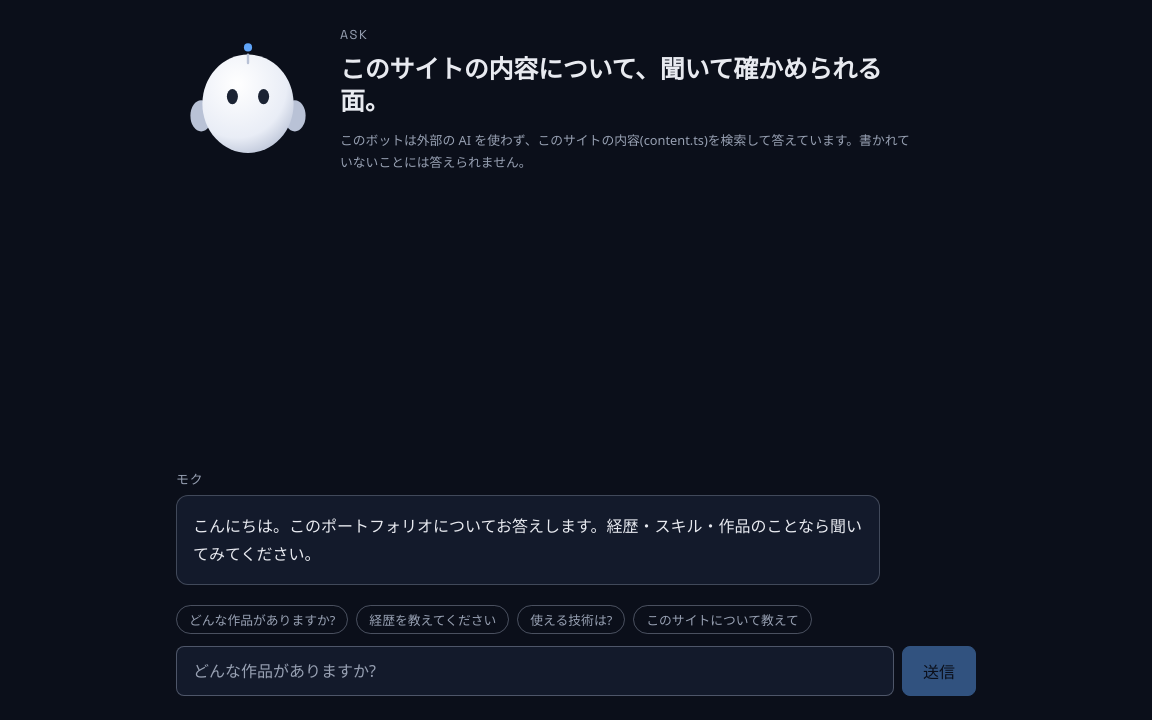
Test: 面 3(ask) › 質問例を押すだけでも会話できる
Click the button "どんな作品がありますか?": click(262, 620) left=176, top=605, right=348, bottom=634
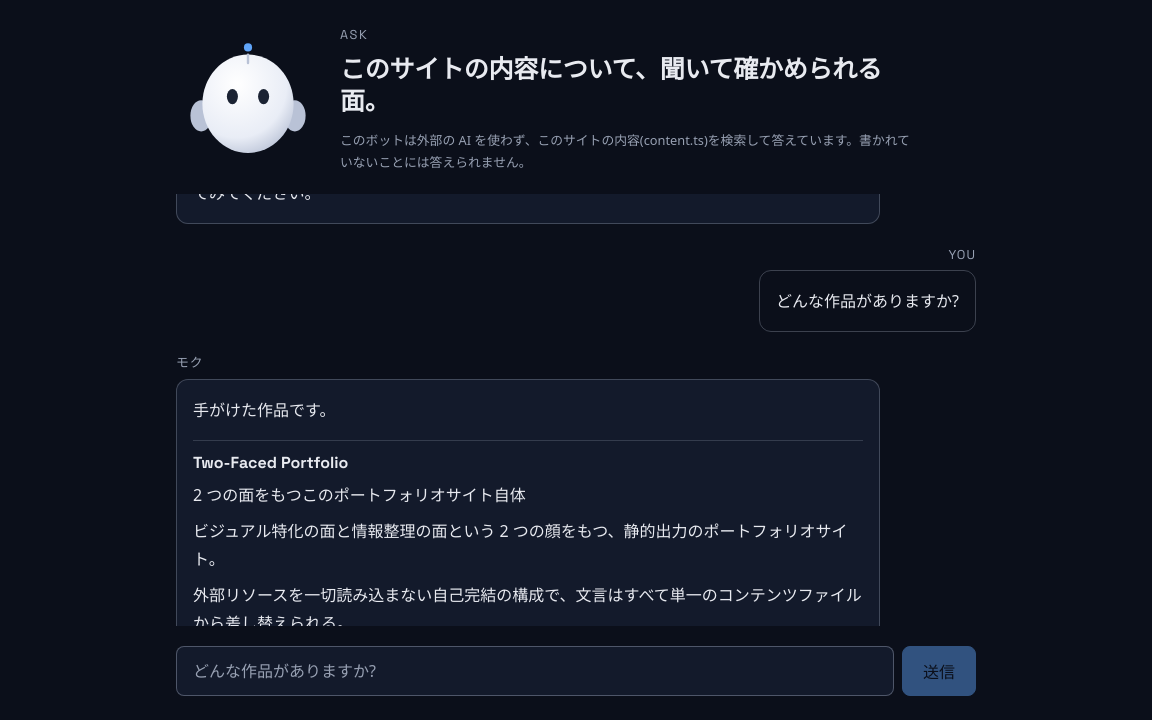
Now the text "手がけた作品です。" is shown, box left=193, top=399, right=335, bottom=421
